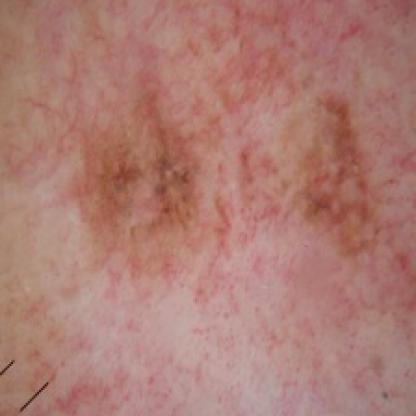malignant: (52, 26, 375, 303)
